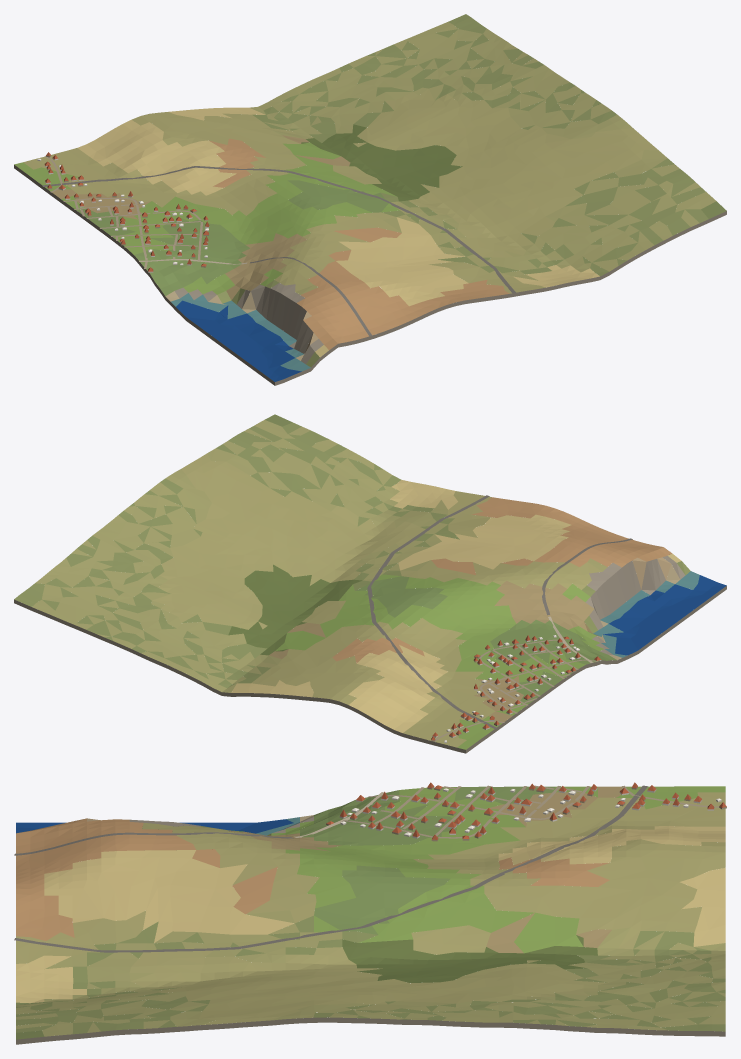
Rendered from parca_+0_-6-uzak.glb.
The picture shows the model from 3 angles, top to bottom: view 1: azimuth 30°, elevation 25°; view 2: azimuth 150°, elevation 25°; view 3: azimuth 270°, elevation 25°; orthographic projection. The views are drawn at different scales.
Visible parts, largest first — view 1: parca_+0_-6_arazi_uzak, parca_+0_-6_yollar_uzak, parca_+0_-6_yapilar_uzak; view 2: parca_+0_-6_arazi_uzak, parca_+0_-6_yollar_uzak, parca_+0_-6_yapilar_uzak; view 3: parca_+0_-6_arazi_uzak, parca_+0_-6_yollar_uzak, parca_+0_-6_yapilar_uzak.
Part boxes in pixels (x1,y1,x2,y2): parca_+0_-6_arazi_uzak: (14, 14, 726, 385); parca_+0_-6_yollar_uzak: (42, 156, 516, 336); parca_+0_-6_yapilar_uzak: (37, 152, 209, 272); parca_+0_-6_arazi_uzak: (14, 414, 726, 753); parca_+0_-6_yollar_uzak: (367, 495, 632, 741); parca_+0_-6_yapilar_uzak: (431, 635, 601, 742); parca_+0_-6_arazi_uzak: (16, 786, 725, 1044); parca_+0_-6_yollar_uzak: (14, 785, 719, 952); parca_+0_-6_yapilar_uzak: (326, 782, 726, 841).
Size of the model in its own units: 1003 by 171 by 1005.
